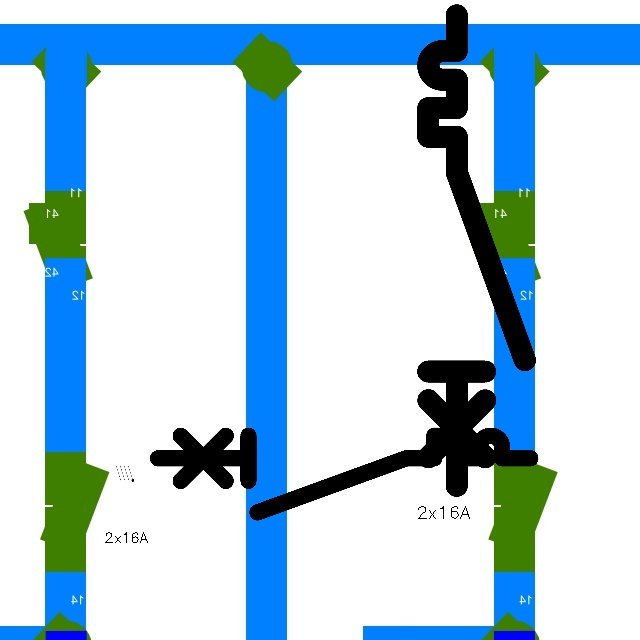interruptor_termomagnetico: (416, 3, 537, 498), (148, 426, 540, 522)
